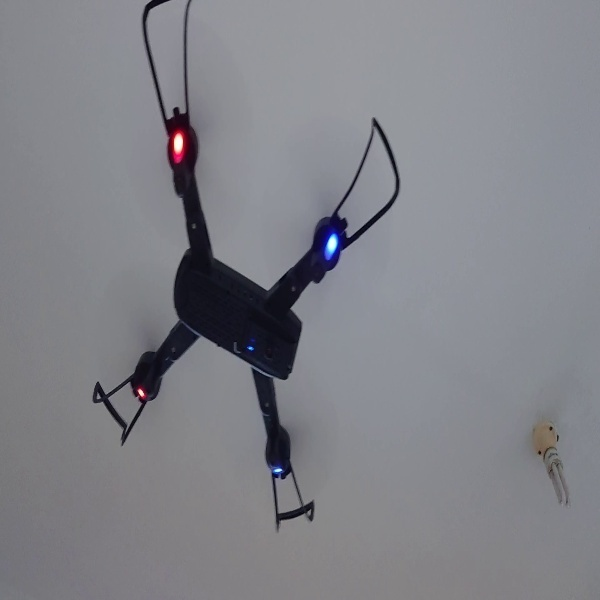drone: (90, 1, 406, 529)
